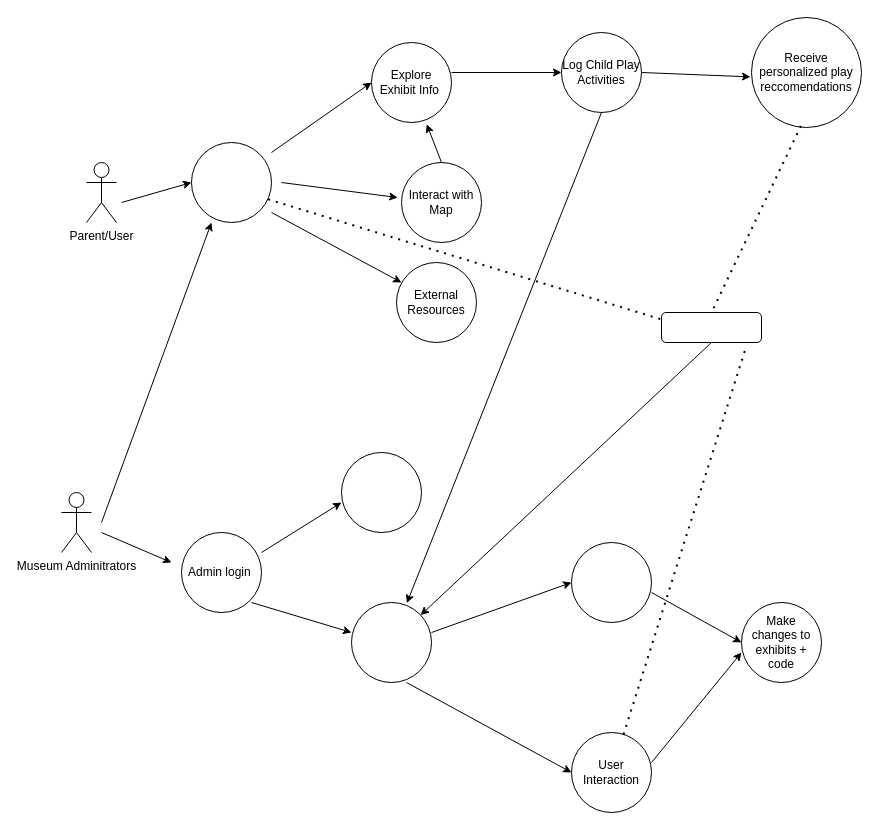
This 879x830 diagram has some shape labels left out. Here are the shapes that lost their labels. From the top down, the centre of each, then its label:
At [231,182]: "Access Website".
At [711,327]: "Website Feedback Survey".
At [381,492]: "Modify app amenities".
At [611,582]: "Time customers spent at each exhibit".
At [391,642]: "Collect Data".
